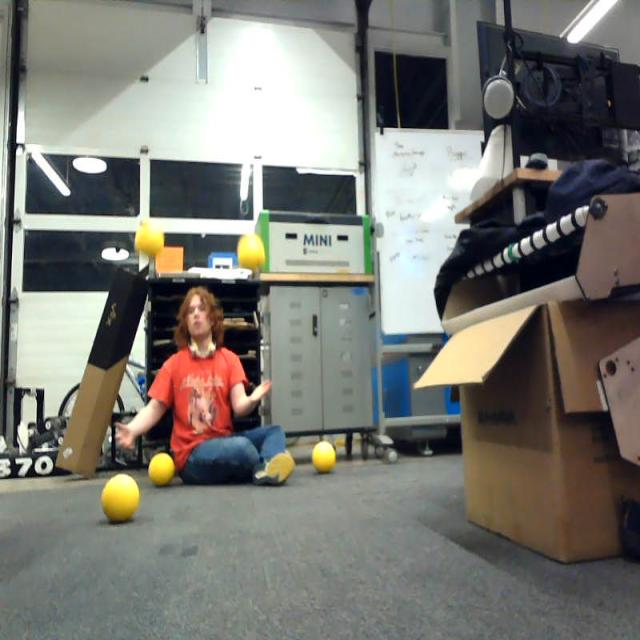Fuel: (102, 475, 139, 523), (238, 235, 265, 269), (149, 453, 174, 487), (138, 222, 163, 255), (313, 442, 335, 474)
